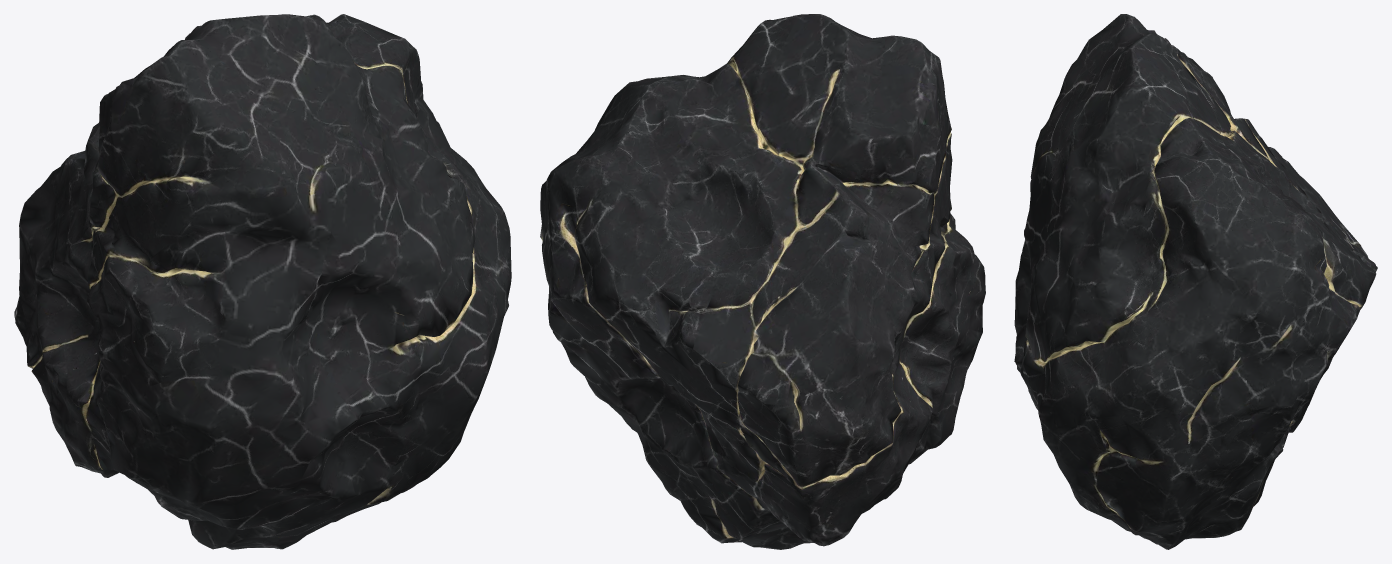
Rendered from asteroid.glb.
The picture shows the model from 3 angles, left to right: view 1: azimuth 30°, elevation 25°; view 2: azimuth 150°, elevation 25°; view 3: azimuth 270°, elevation 25°; orthographic projection. The views are drawn at different scales.
Bounding box in the file's own units: 1.46 × 1.9 × 1.31.
1 material, 1 textured.
